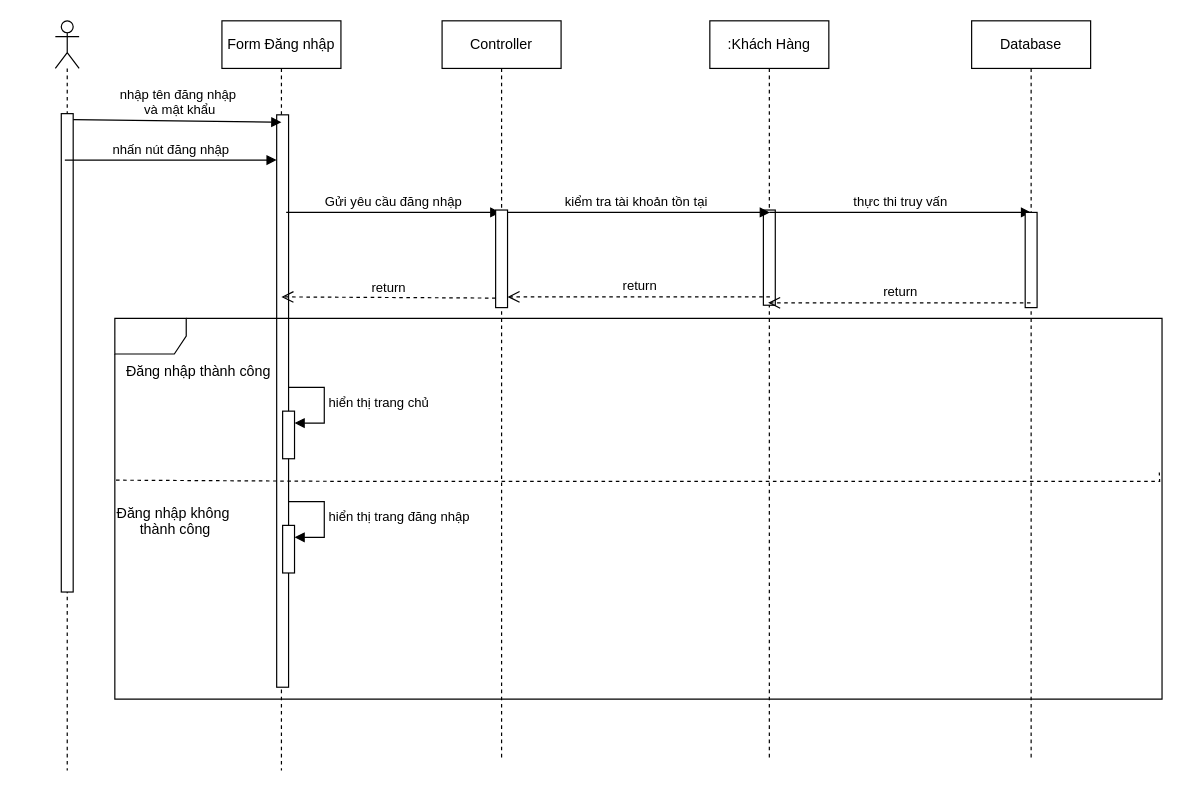
This 1183x791 diagram has some shape labels left out. Each missing label, with the box of its shape:
alt: (114, 317, 1162, 699)
Khách hàng: (54, 20, 79, 771)
